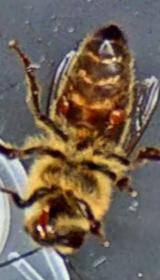varroa_mite: (48, 82, 80, 122), (102, 96, 132, 130)
